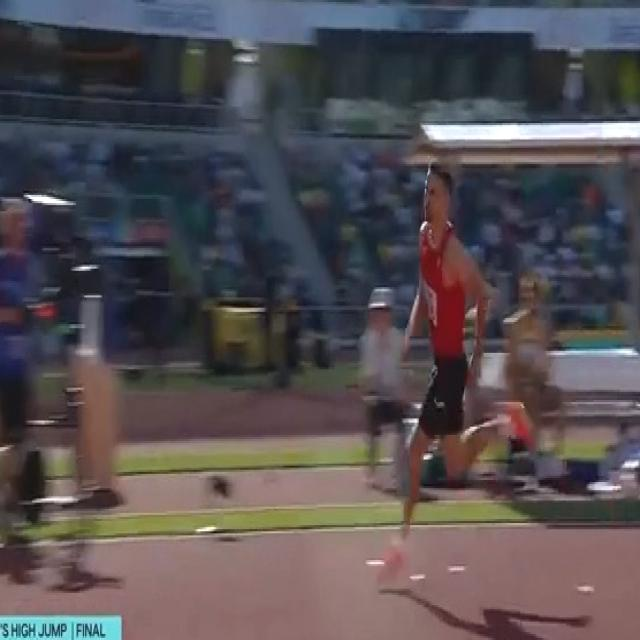run: (370, 158, 536, 592)
